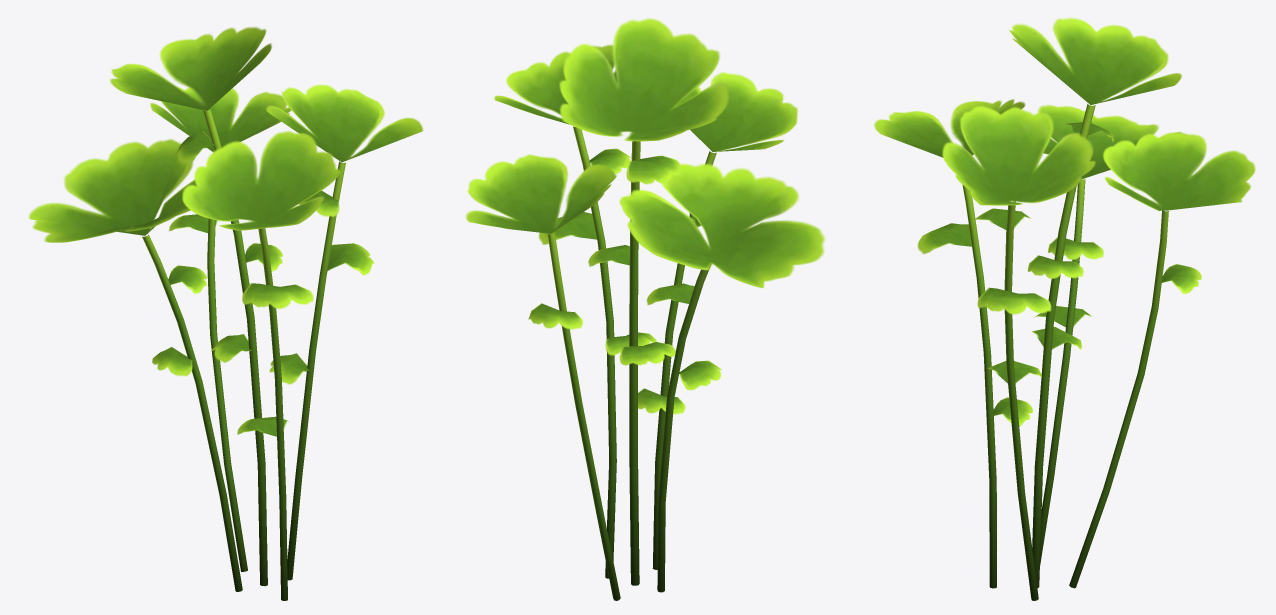
Rendered from clover-2.glb.
3 views of the same model, side by side, from view 1: azimuth 30°, elevation 25°; view 2: azimuth 150°, elevation 25°; view 3: azimuth 270°, elevation 25° (orthographic). The views are drawn at different scales.
Visible parts, largest first — view 1: Clover_2; view 2: Clover_2; view 3: Clover_2.
Part boxes in pixels (bbox=[...]): Clover_2: bbox=[28, 27, 423, 600]; Clover_2: bbox=[465, 18, 825, 600]; Clover_2: bbox=[874, 17, 1255, 600].
Bounding box in the file's own units: 0.8512 × 1.26 × 0.8367.
Materials: 1 (1 with a texture image).
